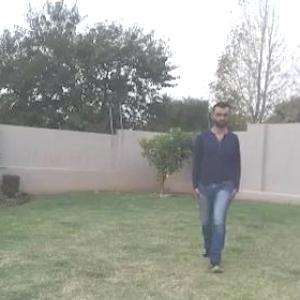follow: (190, 106, 239, 262)
